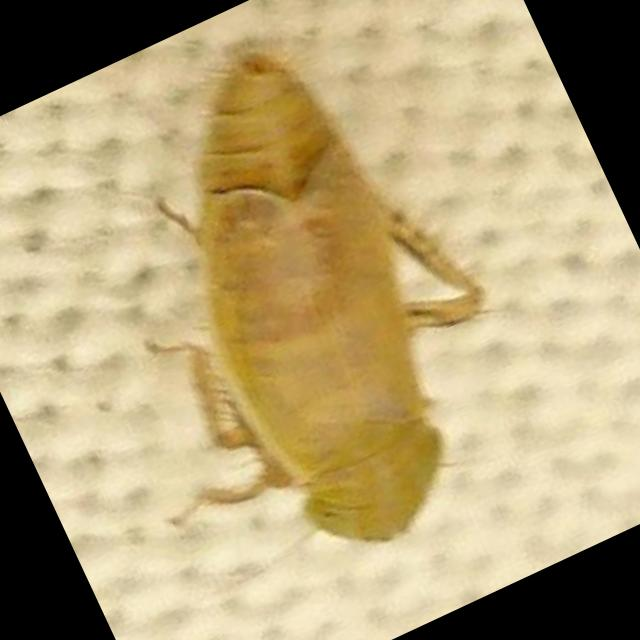green-leafhopper: (92, 0, 577, 569)
